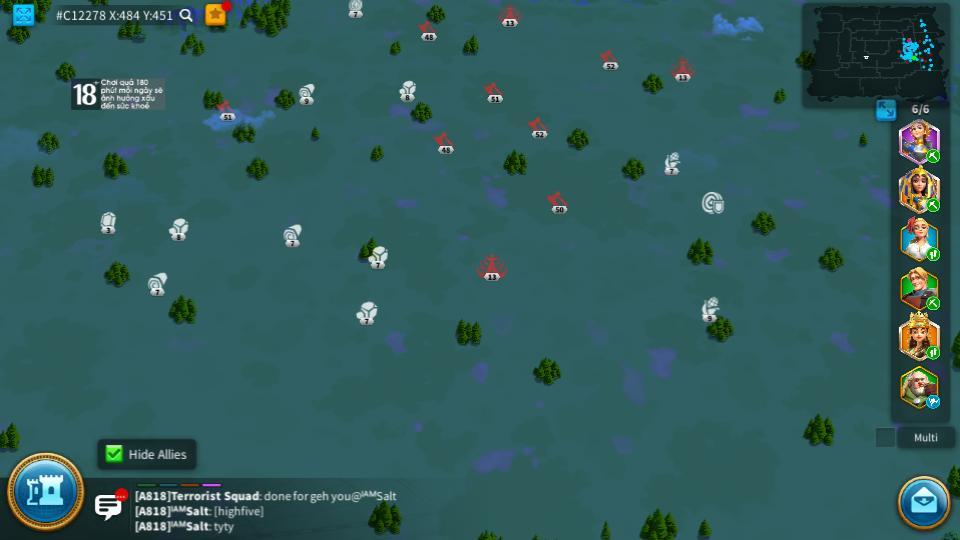gem-z-out: (98, 211, 117, 234), (346, 0, 364, 16)
march_farming: (925, 197, 941, 212), (925, 248, 941, 261)
march_idle: (925, 396, 942, 408)
march_marching: (925, 347, 941, 359), (925, 150, 941, 162), (925, 297, 942, 308)
